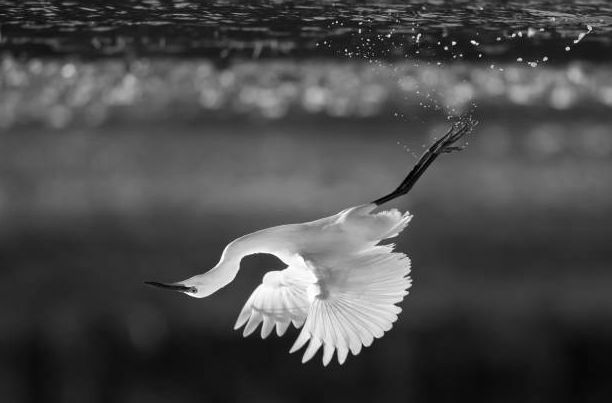Bird: (140, 114, 479, 371)
